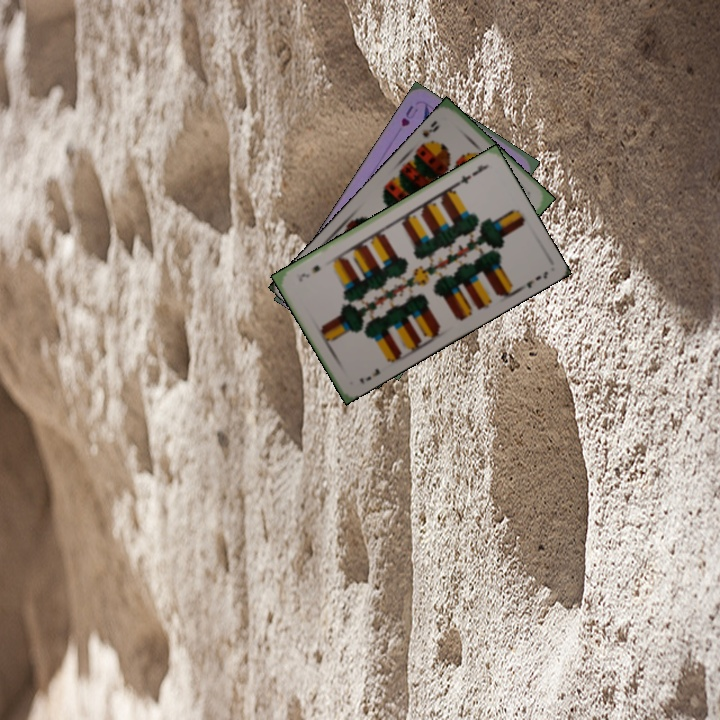E7: (453, 161, 490, 188), (355, 364, 383, 386)
HU: (397, 101, 421, 129)
S9: (417, 117, 442, 151)
